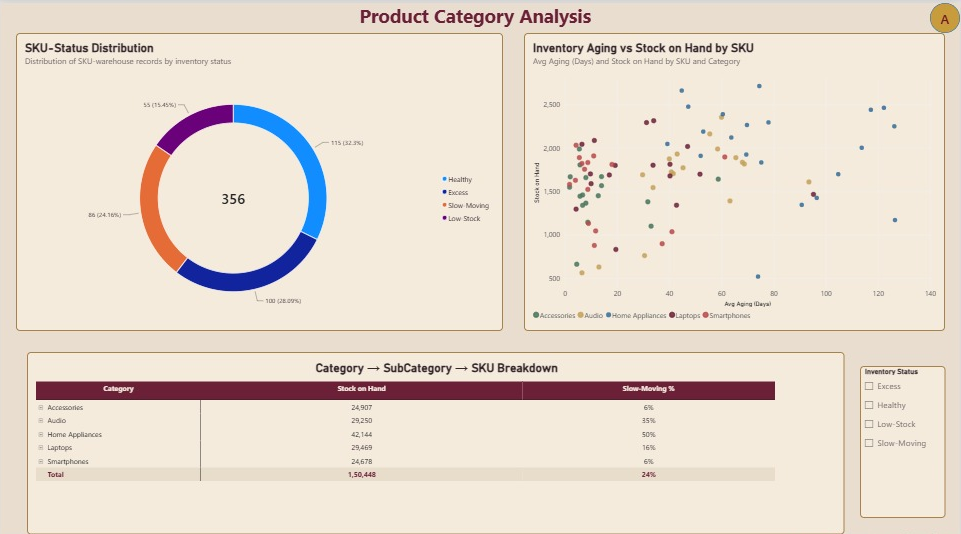

The page's visual inventory and layout, read from the dashboard file:
{"tool":"powerbi","page":{"name":"Product Category Analysis","canvas":[1920,1080],"ordinal":3},"visuals":[{"type":"textbox","box":[55,0,1792.8,53],"z":0},{"type":"slicer","fields":{"Values":["SKU_Status_Snapshot.Status"]},"box":[1720.1,726.5,170.8,304.4],"z":3000},{"type":"pivotTable","title":"Category → SubCategory → SKU Breakdown","fields":{"Rows":["Dim_Product.Category","Dim_Product.SubCategory","Dim_Product.SKU"],"Values":["_Measures.Stock on Hand","_Measures.Slow-Moving %"]},"box":[54,697.7,1635.1,365],"z":5000},{"type":"donutChart","title":"SKU-Status Distribution","fields":{"Category":["SKU_Status_Snapshot.Status"],"Y":["_Measures.Total SKU-Warehouse Records"]},"box":[32.4,60.5,974.2,596.2],"z":6000},{"type":"scatterChart","title":"Inventory Aging vs Stock on Hand by SKU","fields":{"Category":["Dim_Product.SKU"],"Series":["Dim_Product.Category"],"X":["_Measures.Avg Aging (Days)"],"Y":["_Measures.Stock on Hand"]},"box":[1047.6,60.5,842.4,596.2],"z":7000},{"type":"shape","box":[1859.8,0,60,60],"z":9000},{"type":"textbox","title":"Designed & developed by Mirza Afzal Baig | Afzalytics","box":[1413.4,1062.3,506.6,17.7],"z":10000}]}

Visuals, with their boxes in screenshot pixels (x1, y1, x2, y2), scaled from the page's 1920x1080 canvas onto the 961x534 screenshot:
textbox: {"x1": 28, "y1": 0, "x2": 925, "y2": 26}
slicer - SKU_Status_Snapshot.Status: {"x1": 861, "y1": 359, "x2": 946, "y2": 510}
"Category → SubCategory → SKU Breakdown" pivotTable: {"x1": 27, "y1": 345, "x2": 845, "y2": 525}
"SKU-Status Distribution" donutChart: {"x1": 16, "y1": 30, "x2": 504, "y2": 325}
"Inventory Aging vs Stock on Hand by SKU" scatterChart: {"x1": 524, "y1": 30, "x2": 946, "y2": 325}
shape: {"x1": 931, "y1": 0, "x2": 960, "y2": 30}
"Designed & developed by Mirza Afzal Baig | Afzalytics" textbox: {"x1": 707, "y1": 525, "x2": 960, "y2": 533}
